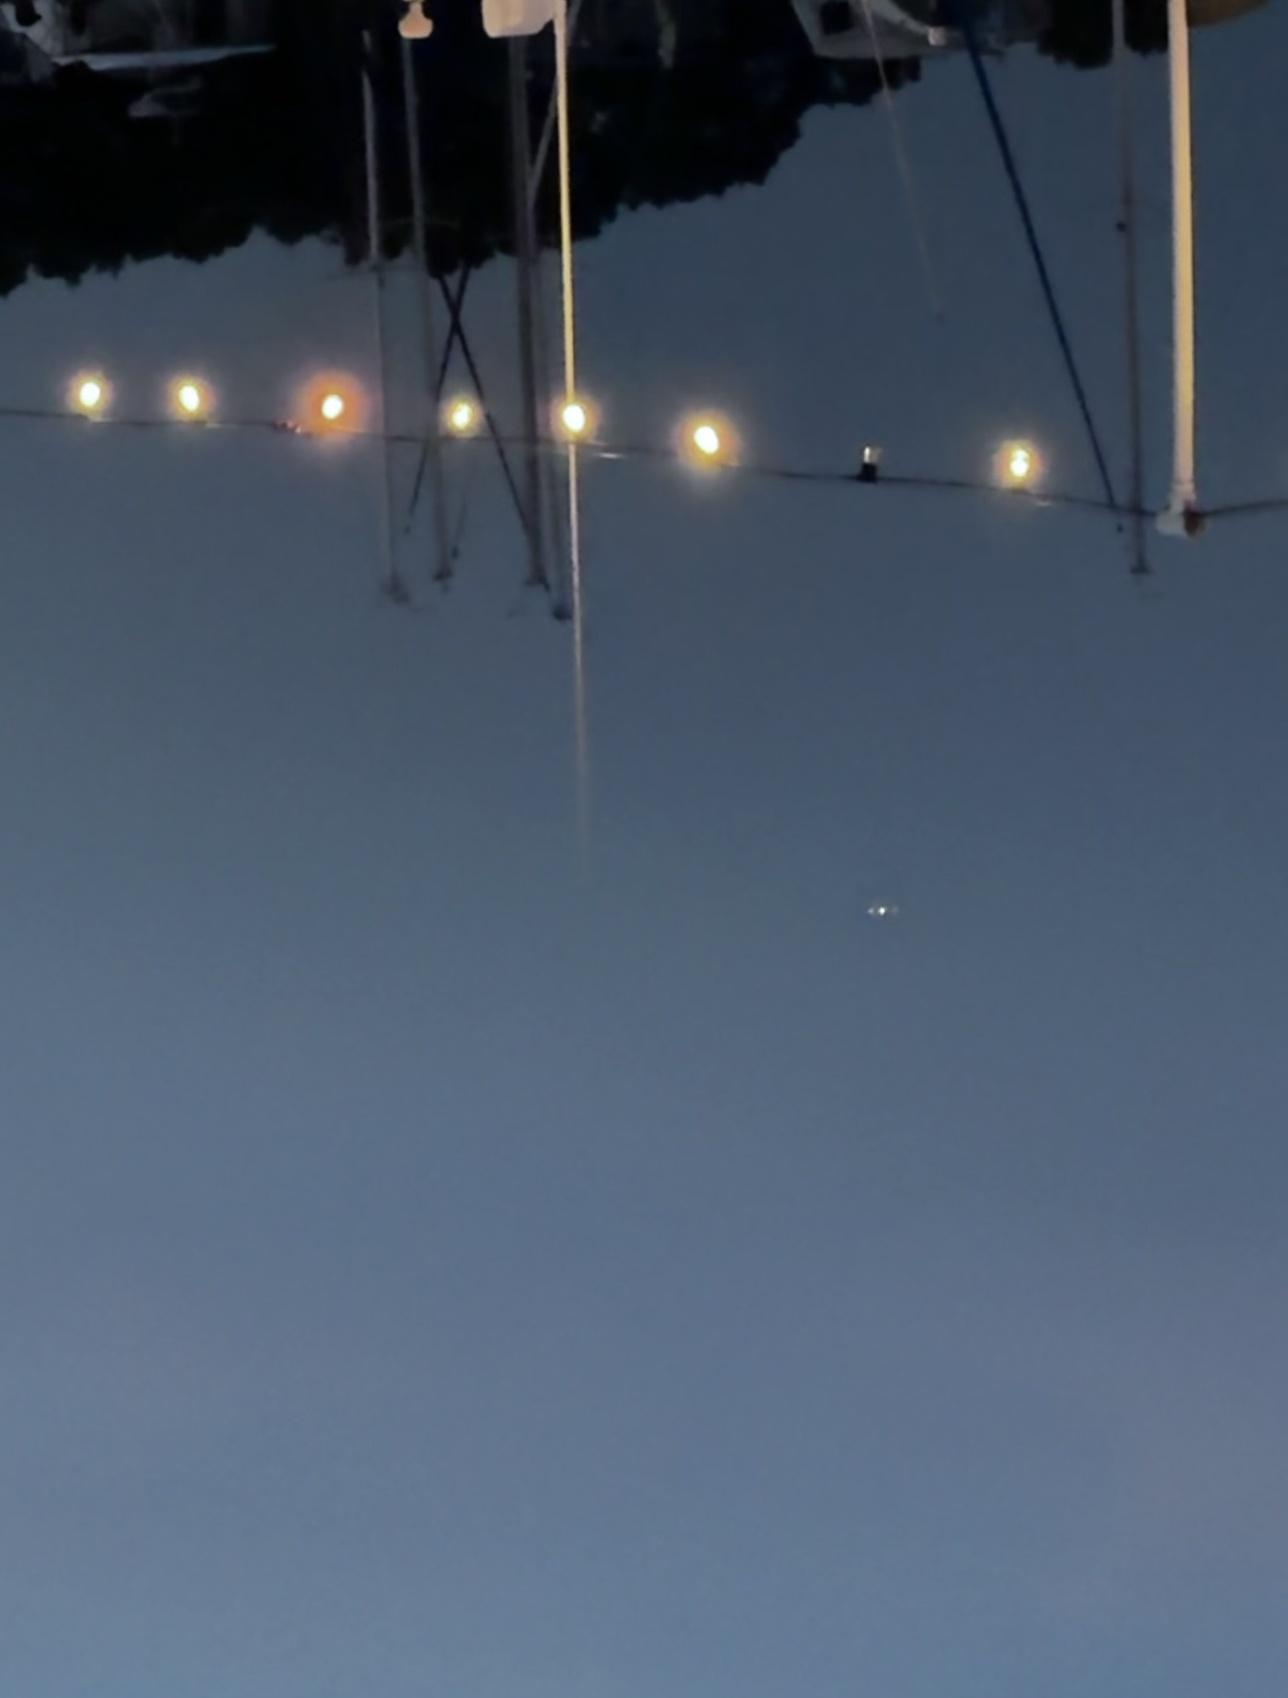Plane: (852, 888, 916, 938)
